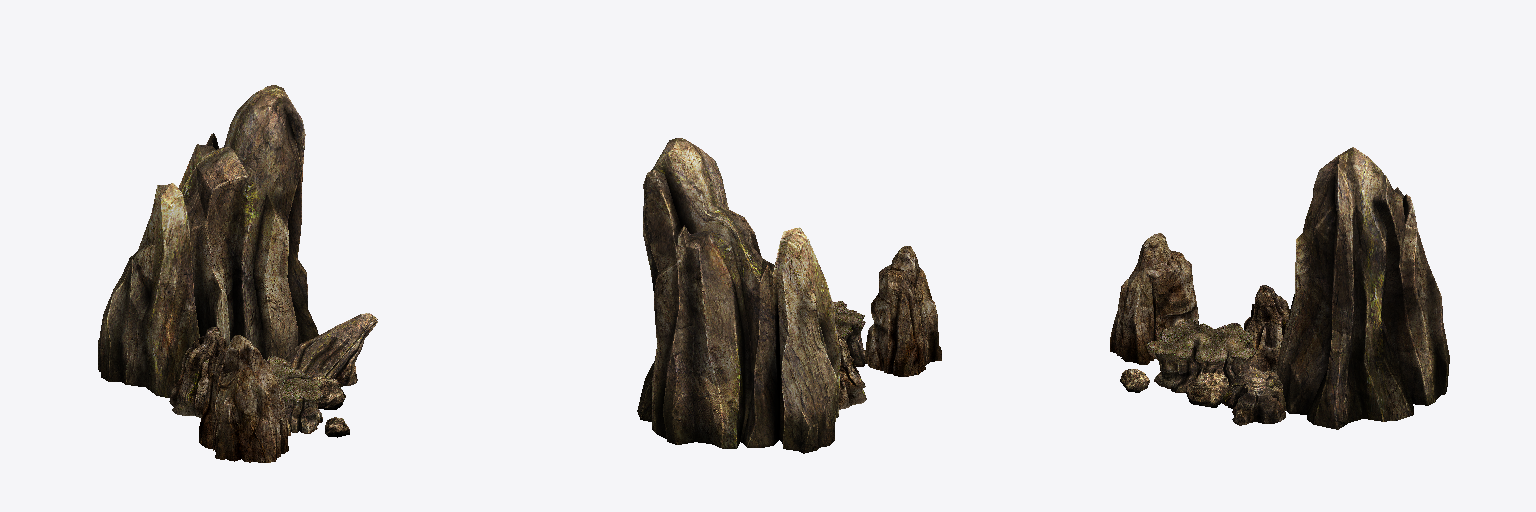
The picture shows the model from 3 angles: view 1: azimuth 30°, elevation 25°; view 2: azimuth 150°, elevation 25°; view 3: azimuth 270°, elevation 25°; orthographic projection.
Parts seen in each view (by area): view 1: Object.1; view 2: Object.1; view 3: Object.1.
Boxes of the visible parts, box(x1,y1,x2,y2) form: Object.1: box(98, 85, 377, 462); Object.1: box(637, 138, 941, 453); Object.1: box(1110, 147, 1449, 429).
Size of the model in its own units: 515 by 593 by 694.
6 materials, 6 textured.